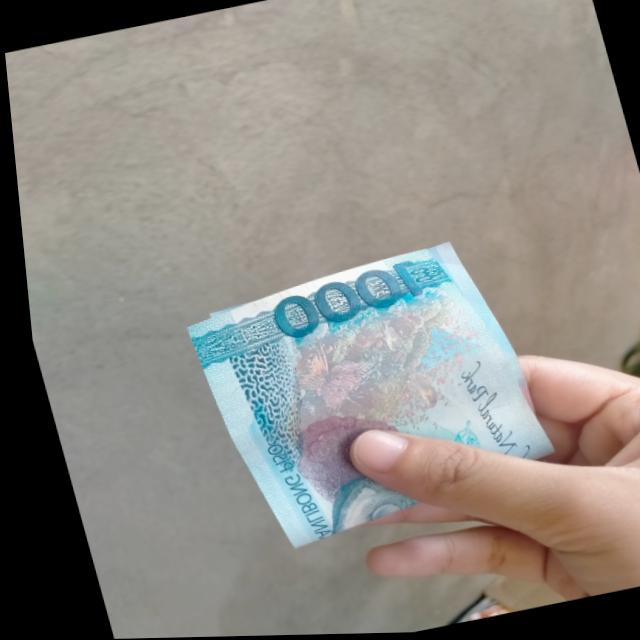value: (245, 252, 426, 352)
